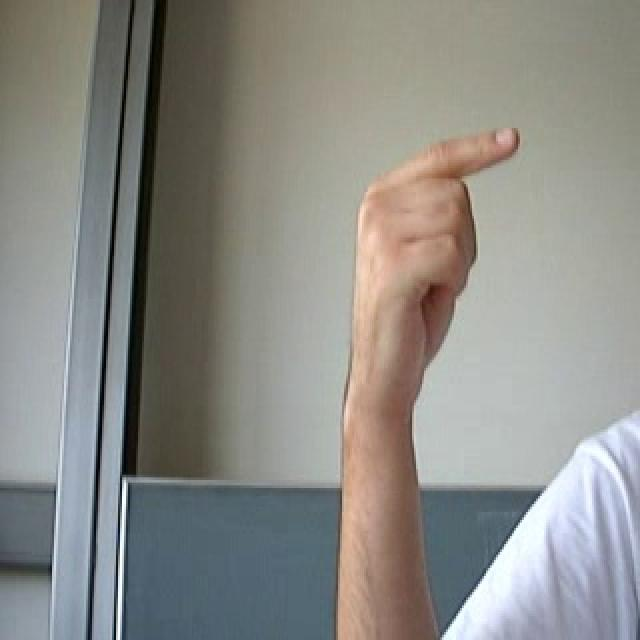G: (287, 103, 550, 454)
